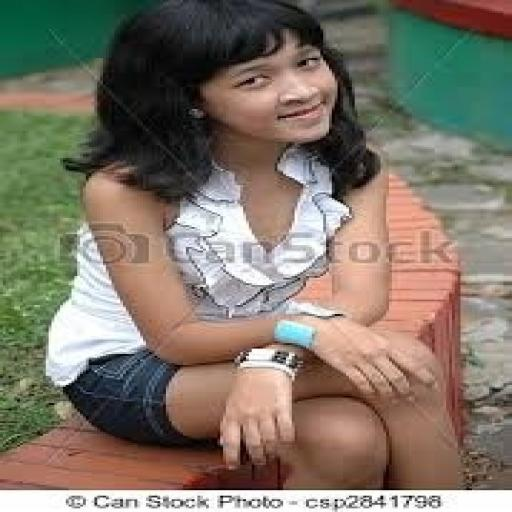sitting: (43, 0, 469, 488)
